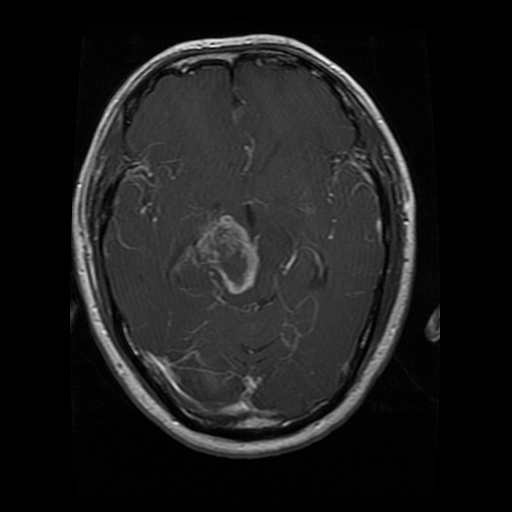glioma: (193, 213, 264, 294)
